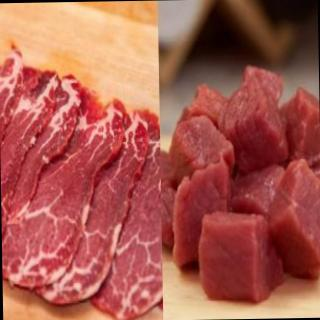Daging Sapi: (1, 47, 161, 309), (160, 66, 320, 292), (17, 105, 127, 277), (217, 61, 293, 171), (204, 210, 284, 304), (169, 174, 235, 273), (271, 157, 320, 278), (168, 118, 239, 185), (282, 86, 320, 164)
